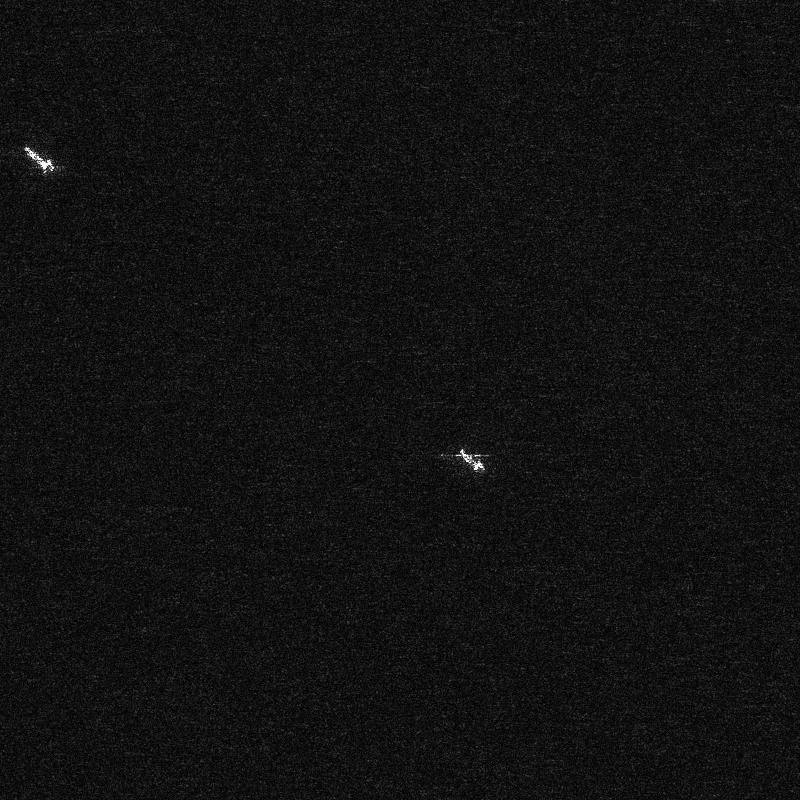ship: (23, 145, 55, 173), (459, 448, 485, 471)
